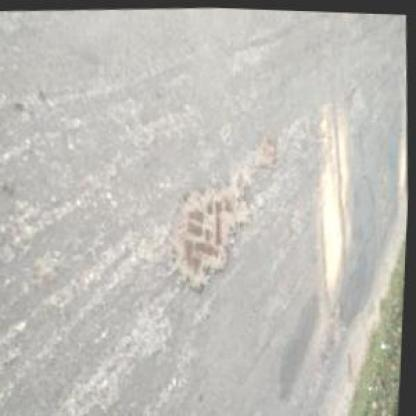pothole: (160, 172, 260, 302), (318, 296, 350, 360), (248, 132, 280, 166)
